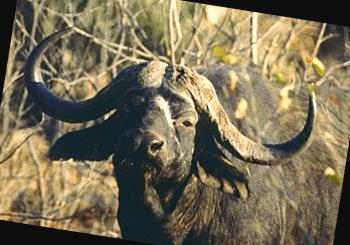Buffalo: (0, 22, 307, 245)
